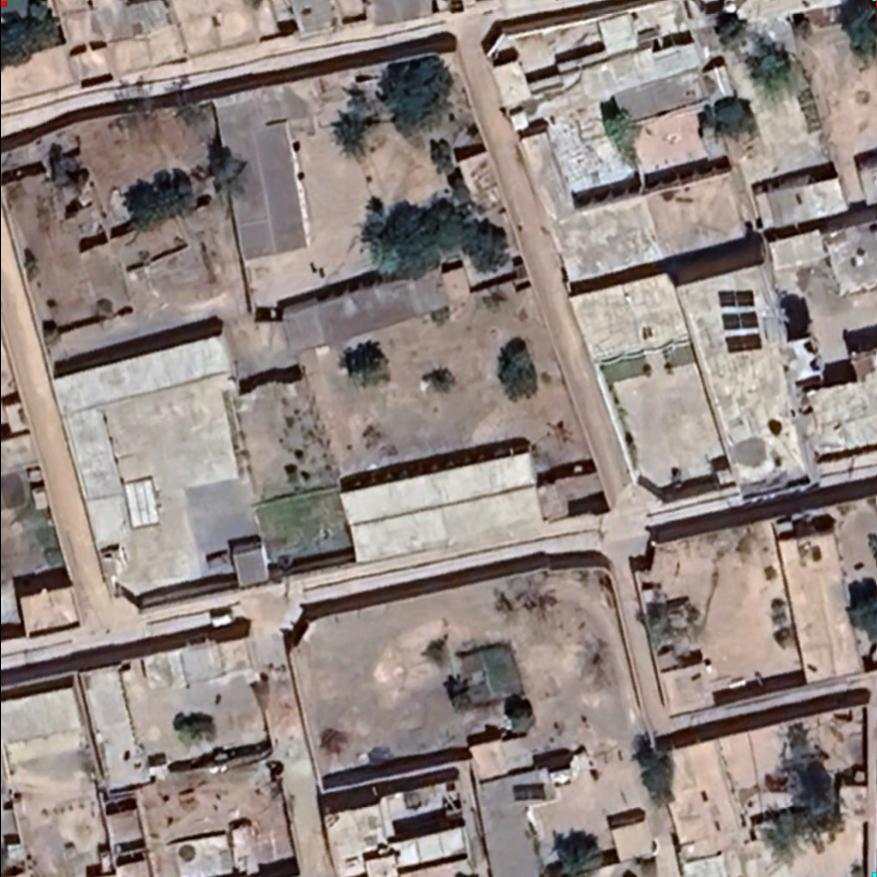Solarpanel: (714, 285, 767, 353)
